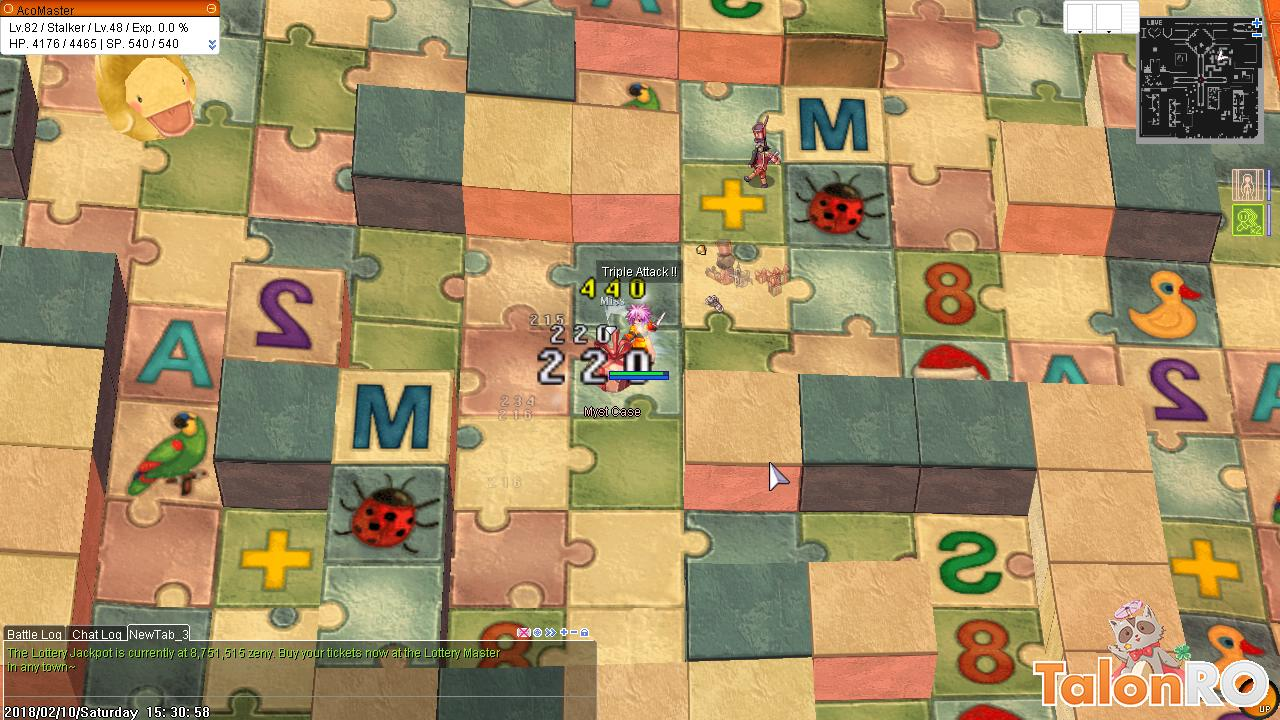loot: (702, 287, 729, 322), (692, 234, 707, 260)
mob: (740, 112, 789, 193)
myst_case: (582, 333, 638, 399)
